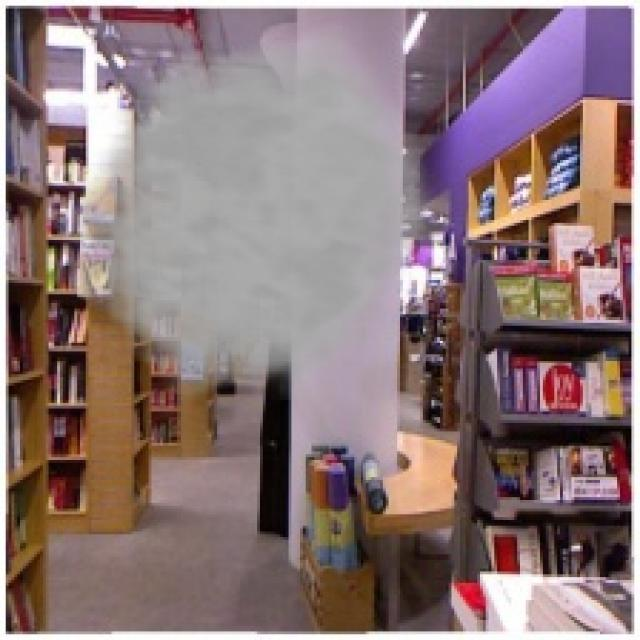smoke: (54, 17, 446, 400)
